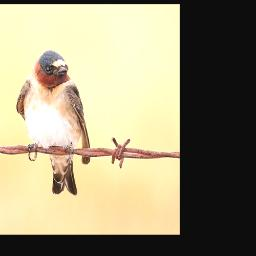Swallow: (16, 49, 91, 196)
